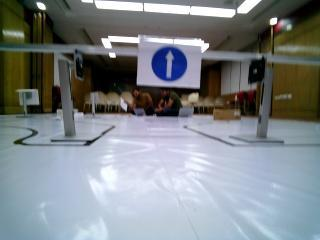straight: (136, 37, 199, 89)
